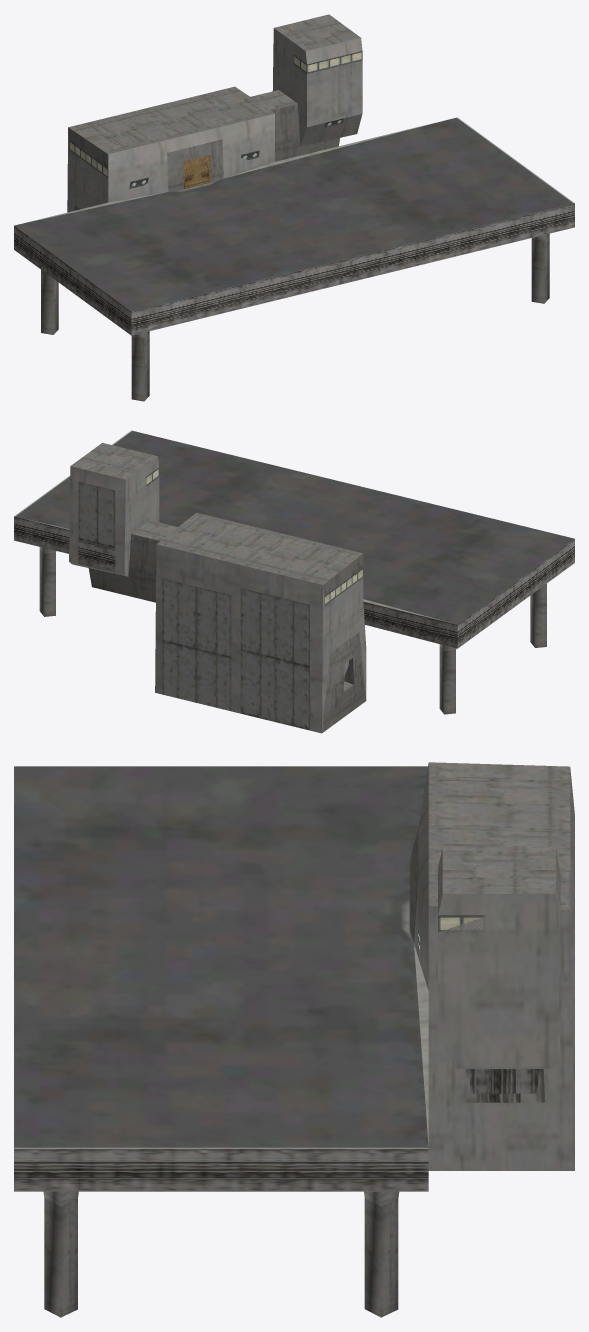
Rendered from mun_all_landing_pad_s01_r0_exterior_mesh_l2.fbx.
The picture shows the model from 3 angles, top to bottom: view 1: azimuth 30°, elevation 25°; view 2: azimuth 150°, elevation 25°; view 3: azimuth 270°, elevation 25°; orthographic projection. The views are drawn at different scales.
Visible parts, largest first — view 1: mesh_node; view 2: mesh_node; view 3: mesh_node.
Boxes of the visible parts, x1,y1,x2,y2 form: mesh_node: [14, 14, 574, 401]; mesh_node: [14, 430, 574, 733]; mesh_node: [14, 762, 574, 1317].
Size of the model in its own units: 48 by 20.75 by 29.76.
